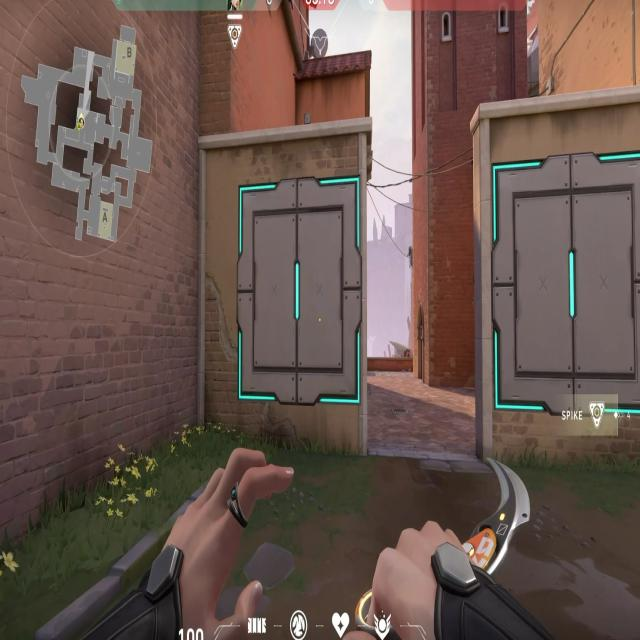Mid_Wall: (474, 92, 640, 451), (198, 126, 365, 450)
